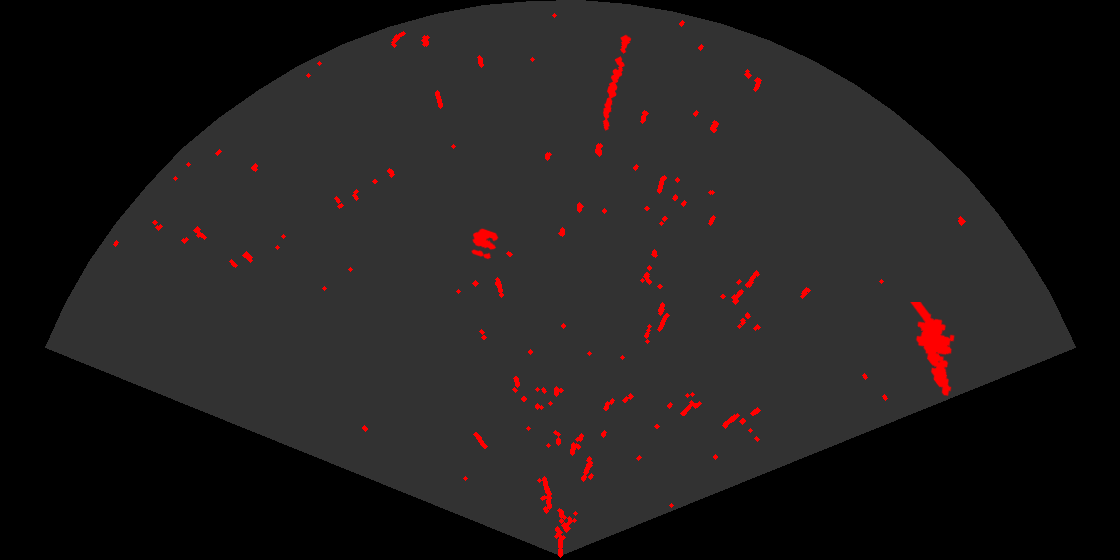ball: (470, 227, 500, 261)
chain: (601, 33, 633, 132)
frogman: (909, 302, 956, 398)
